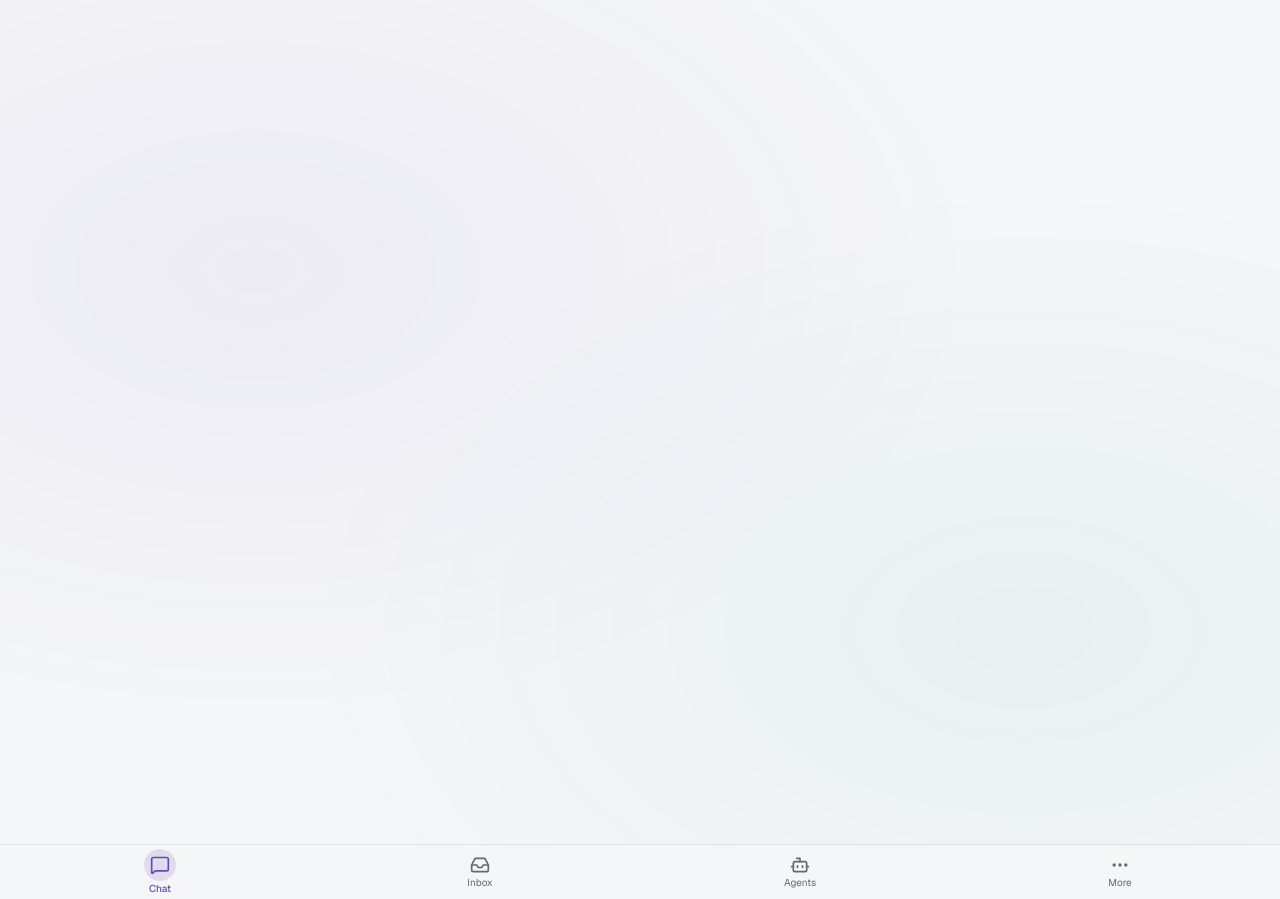
MobileTabBar › navigates from the sheet and closes it
Click the button with test id "mobile-tab-more" at (1120, 872), box top-left (1098, 850), bottom-right (1142, 894)
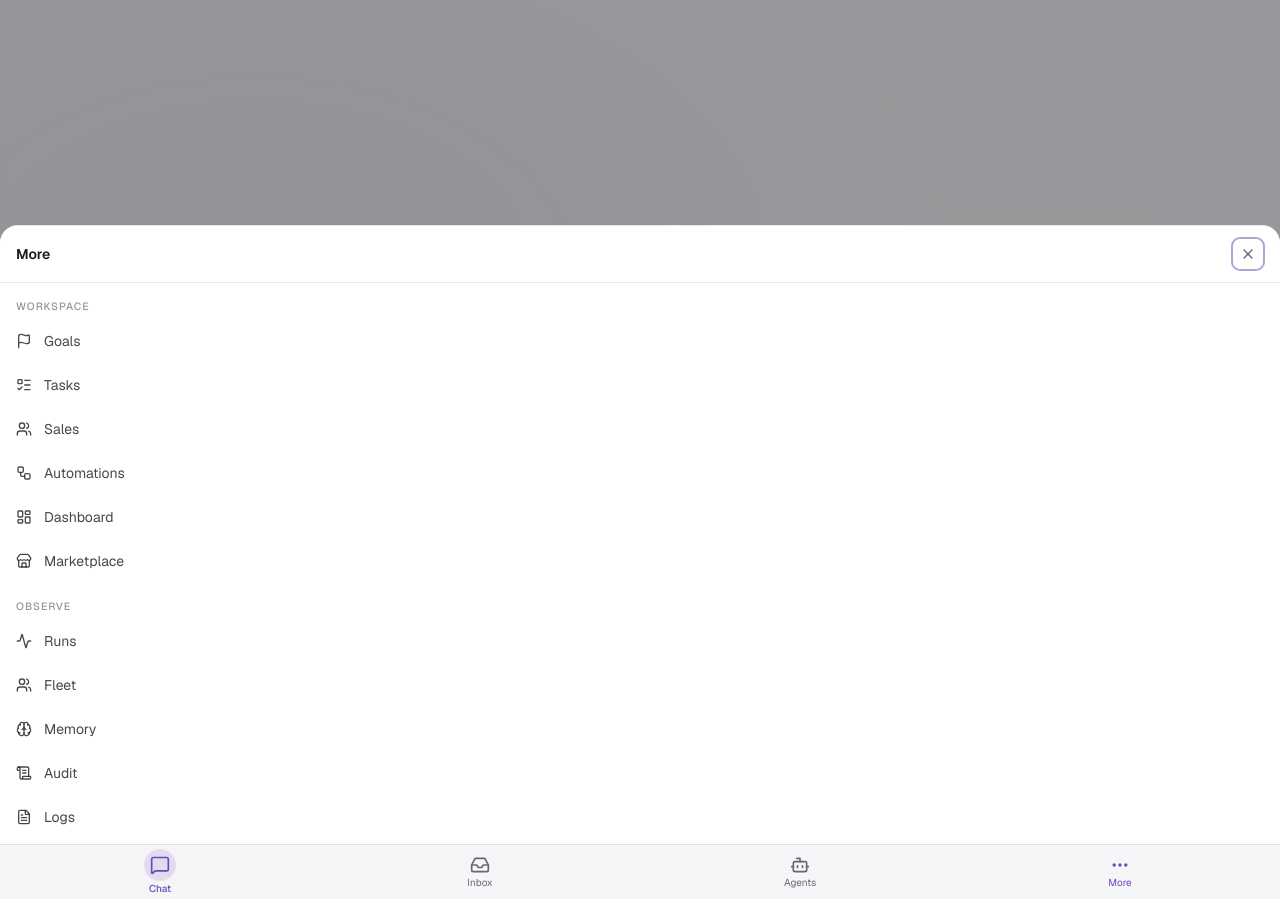
Click the button with test id "more-nav-dashboard" at (79, 517), box top-left (8, 495), bottom-right (1272, 539)
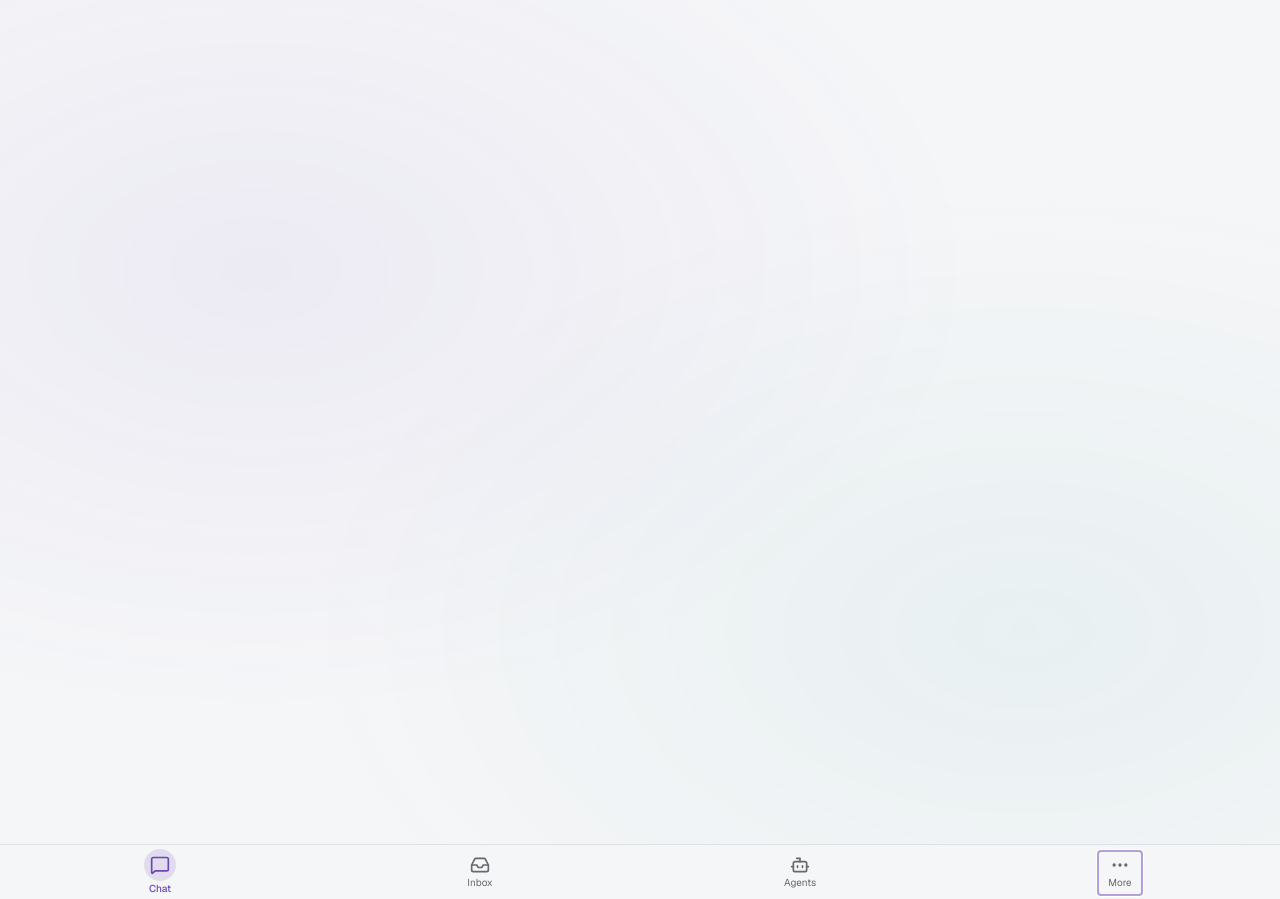
Expected: the dialog with test id "mobile-more-sheet" is gone
